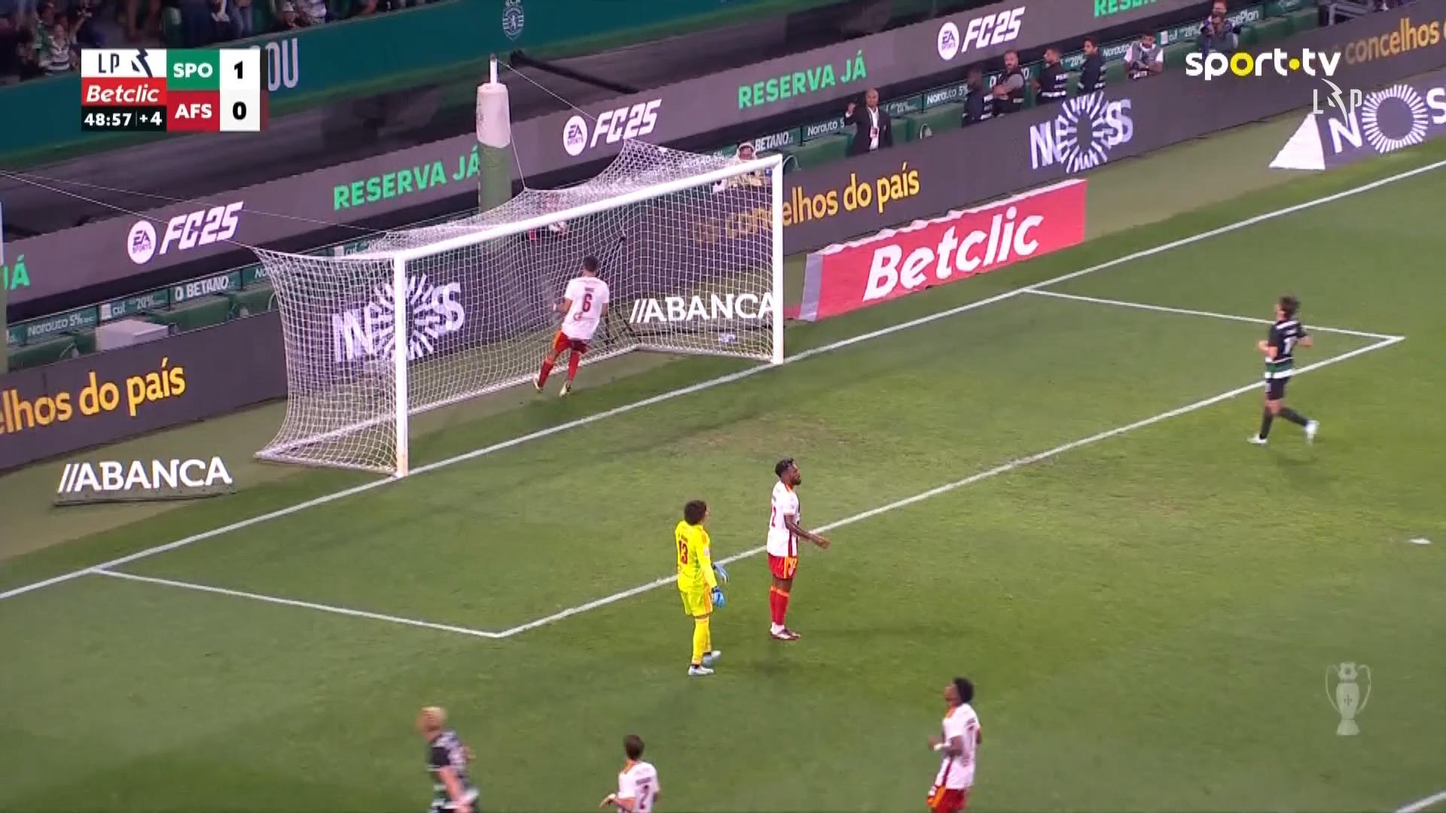goalkeeper: (673, 498, 727, 676)
player: (764, 457, 830, 641), (531, 254, 611, 397), (1246, 294, 1319, 446), (925, 675, 982, 811), (416, 705, 480, 811), (598, 733, 660, 811)
